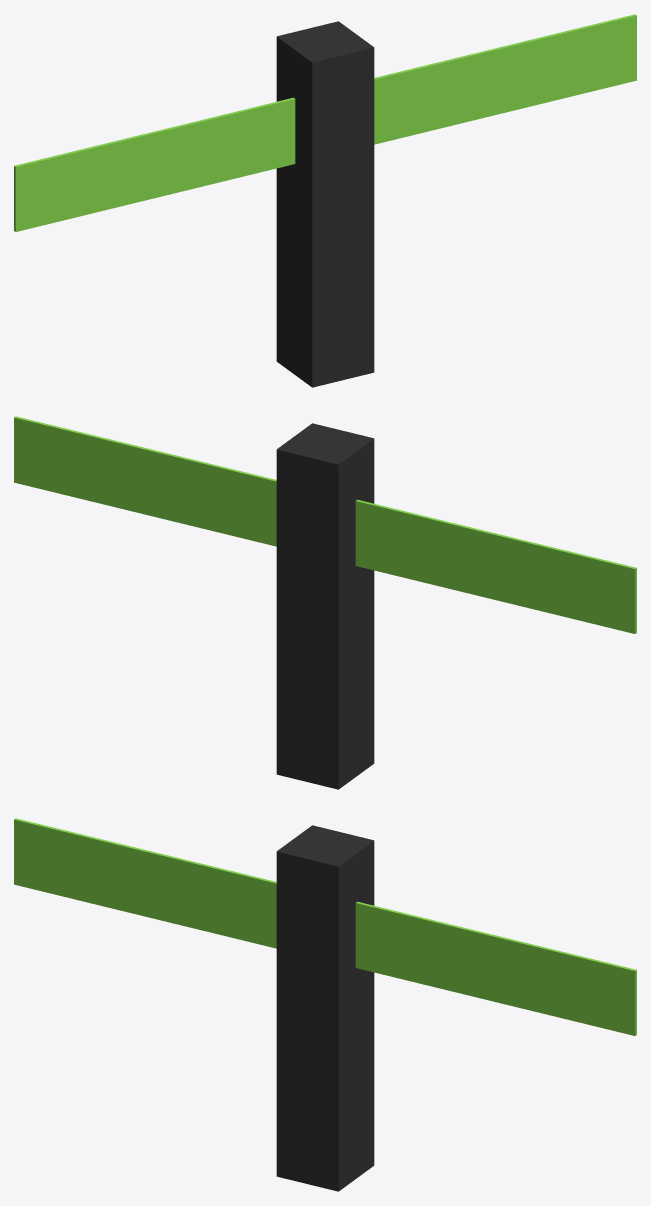
File: Handrail.fbx
3 views of the same model, one above another, from view 1: azimuth 30°, elevation 25°; view 2: azimuth 150°, elevation 25°; view 3: azimuth 330°, elevation 25° (orthographic).
Visible parts, largest first — view 1: Cube, Pillar; view 2: Cube, Pillar; view 3: Cube, Pillar.
Part boxes in pixels (x1,y1,x2,y2): Cube: (14, 14, 636, 231); Pillar: (276, 21, 374, 387); Cube: (14, 416, 636, 633); Pillar: (276, 423, 374, 789); Cube: (14, 818, 636, 1035); Pillar: (276, 825, 374, 1191).
Bounding box in the file's own units: 4 × 2 × 0.4.
